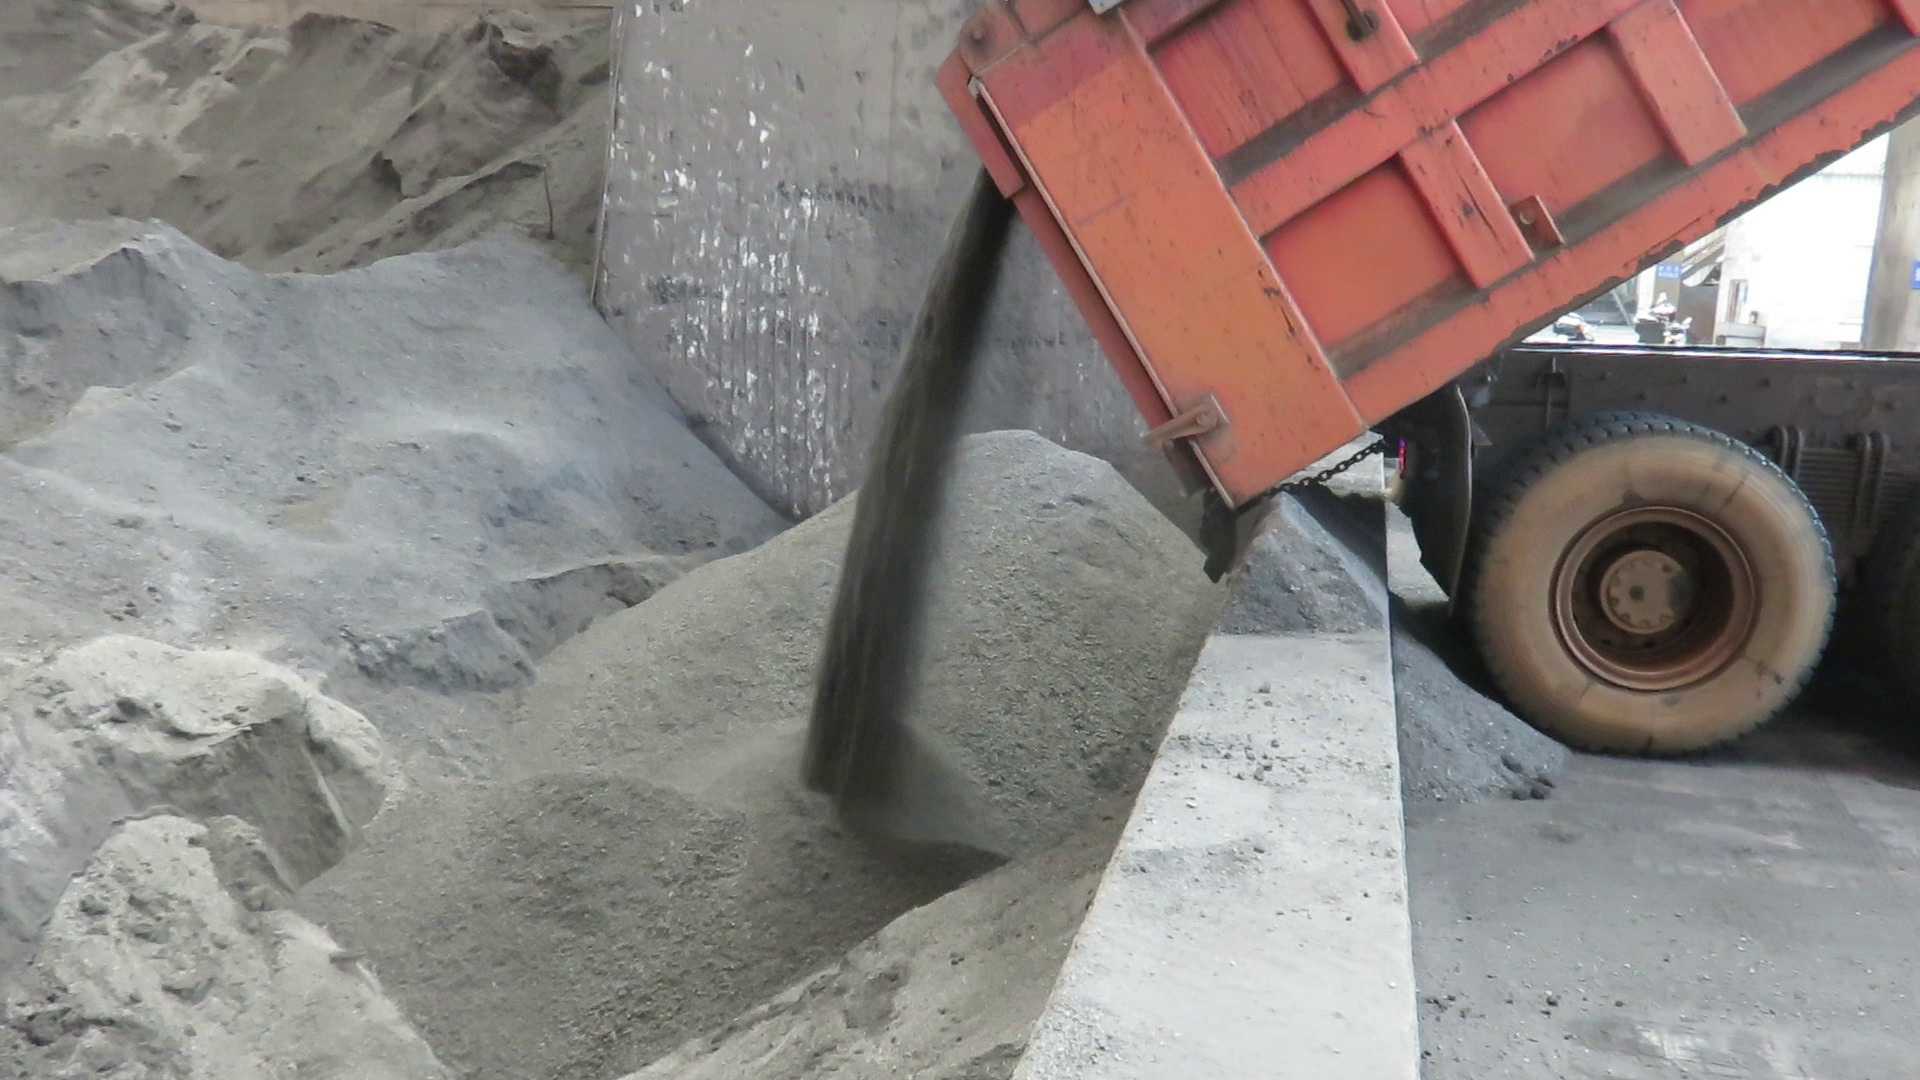truck: (918, 0, 1920, 789)
